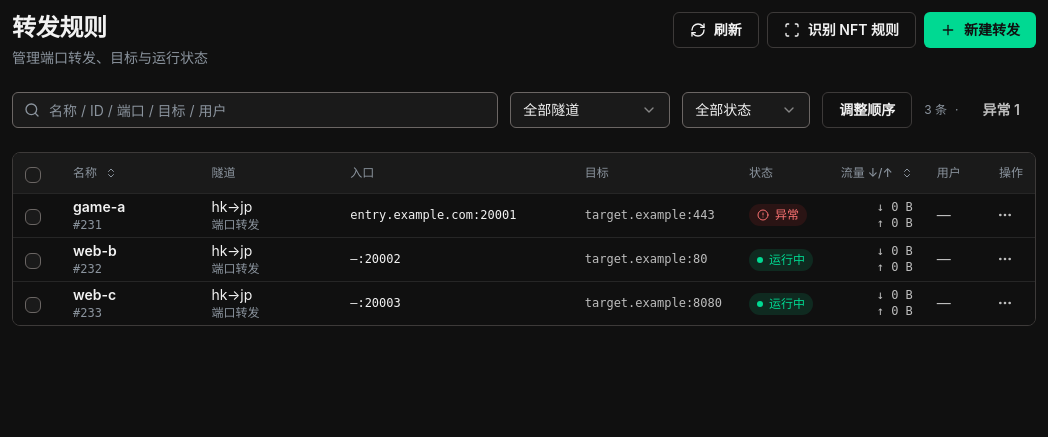
Test: forward URL and custom order › rolls back to server order and exposes inline errors when order save fails
The width and height of the screenshot is (1048, 437).
Expected: the text "game-a" is shown, [73, 198, 125, 215]
Click the button "调整顺序". click: [867, 110]
box: [822, 92, 912, 128]
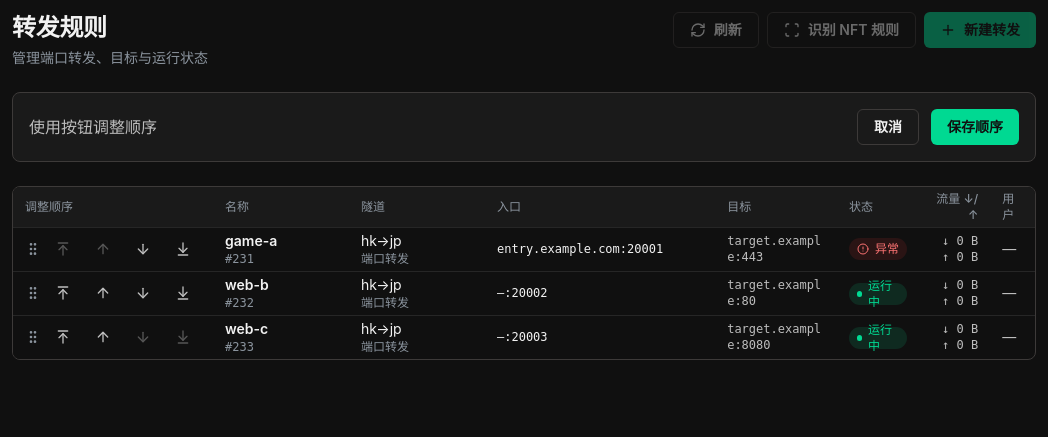
Click the button named "置顶：web-c". click: [63, 337]
box: [45, 319, 81, 355]
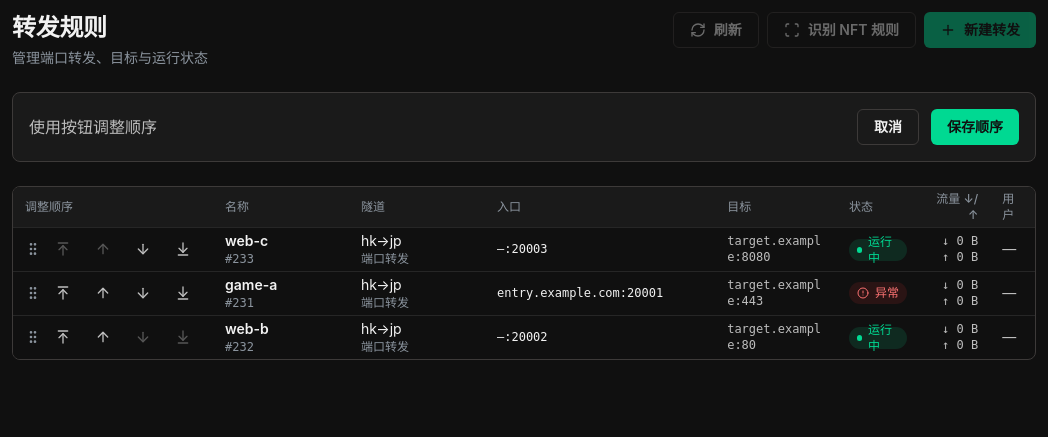
Click the button "保存顺序". click: [975, 127]
box: [931, 109, 1019, 145]
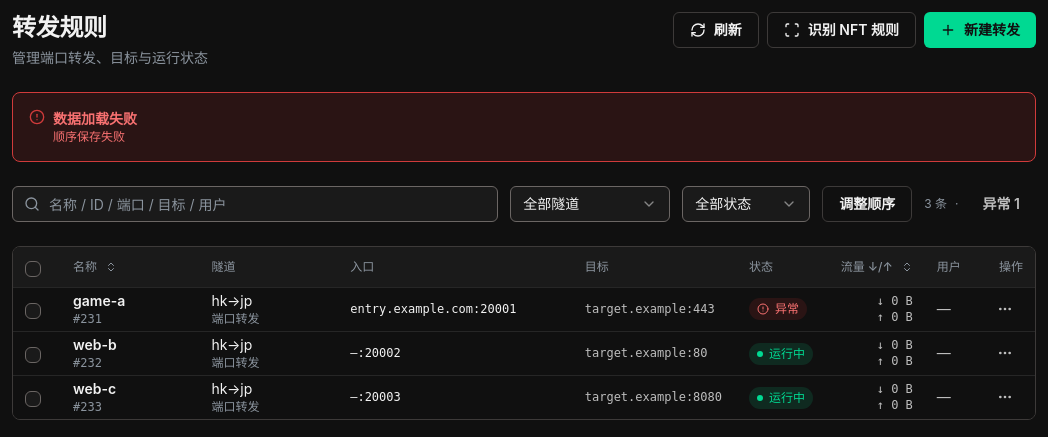
Now the message shows "顺序保存失败", box [53, 129, 125, 144]
